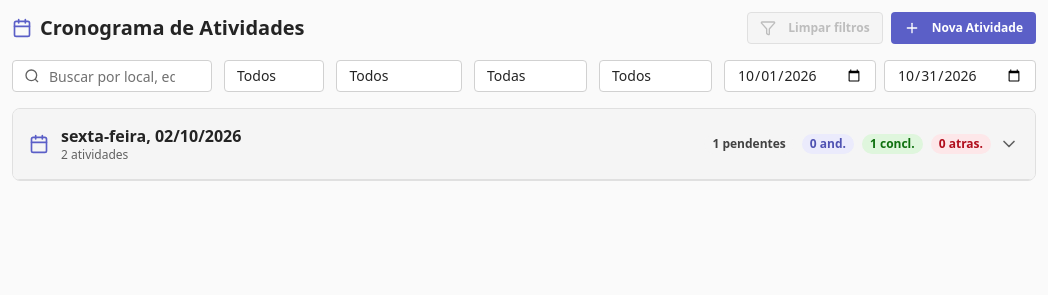
Scenario: CronogramaView — filtros › filtra por status concluído
The width and height of the screenshot is (1048, 295).
Select "Concluído" in the 1st dropdown at (274, 76), box [224,60,324,92]
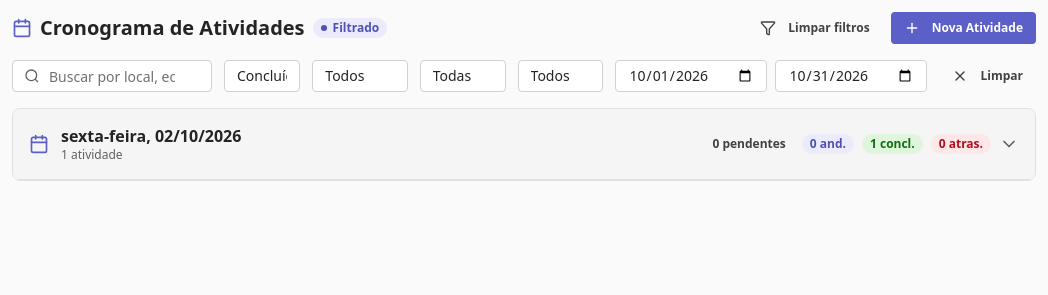
Click the 4th button.
click(151, 136)  # box [13,109,1035,180]
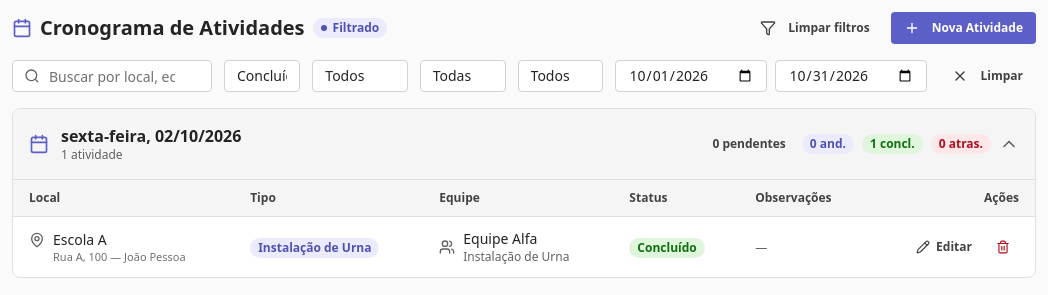
Check: the row "Escola A" is shown, box [13,216,1035,277]
